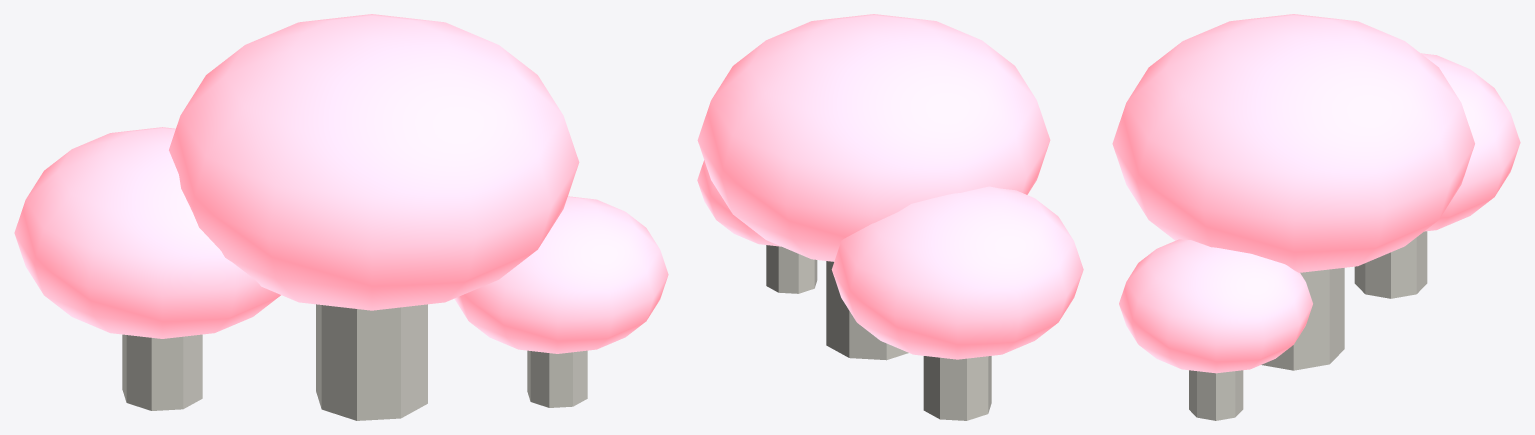
File: mushrooms_stylized.glb
3 renders of one model, left to right at view 1: azimuth 30°, elevation 25°; view 2: azimuth 150°, elevation 25°; view 3: azimuth 270°, elevation 25°, orthographic. The views are drawn at different scales.
Visible parts, largest first — view 1: MushCap_0, MushCap_1, MushCap_2, MushStem_0, MushStem_1, MushStem_2; view 2: MushCap_0, MushCap_1, MushStem_1, MushStem_0, MushStem_2, MushCap_2; view 3: MushCap_0, MushCap_2, MushCap_1, MushStem_0, MushStem_1, MushStem_2.
Part boxes in pixels (x1,y1,x2,y2): MushCap_0: [169, 14, 579, 310]; MushCap_1: [14, 127, 280, 338]; MushCap_2: [454, 196, 668, 353]; MushStem_0: [316, 304, 427, 420]; MushStem_1: [122, 334, 202, 410]; MushStem_2: [527, 350, 587, 407]; MushCap_0: [697, 14, 1050, 261]; MushCap_1: [831, 186, 1083, 359]; MushStem_1: [923, 356, 991, 420]; MushStem_0: [826, 261, 908, 360]; MushStem_2: [766, 245, 817, 293]; MushCap_2: [697, 160, 780, 246]; MushCap_0: [1112, 14, 1474, 272]; MushCap_2: [1119, 239, 1312, 373]; MushCap_1: [1421, 53, 1520, 231]; MushStem_0: [1261, 268, 1344, 370]; MushStem_1: [1354, 231, 1427, 298]; MushStem_2: [1189, 370, 1243, 420].
Size of the model in its own units: 0.81 by 0.532 by 0.63.
